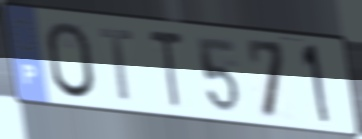1: (299, 41, 332, 128)
5: (193, 34, 245, 114)
7: (245, 35, 290, 122)
O: (43, 19, 99, 102)
T: (146, 27, 186, 111), (96, 26, 136, 104)
